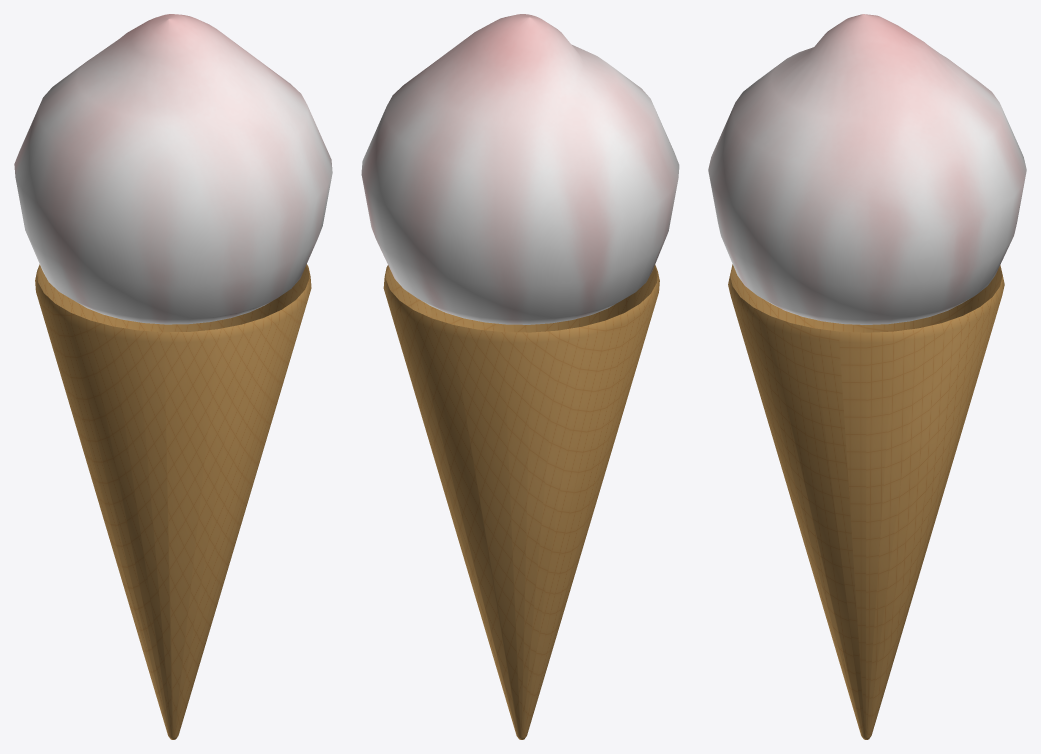
The model's file is ice_cream_2.glb.
3 renders of one model, left to right at view 1: azimuth 30°, elevation 25°; view 2: azimuth 150°, elevation 25°; view 3: azimuth 270°, elevation 25°, orthographic.
Parts seen in each view (by area): view 1: Cone; view 2: Cone; view 3: Cone.
Boxes of the visible parts, x1,y1,x2,y2 form: Cone: [14, 14, 332, 739]; Cone: [361, 14, 679, 739]; Cone: [708, 14, 1026, 739].
Bounding box in the file's own units: 2.34 × 5.84 × 2.34.
1 material, 1 textured.
